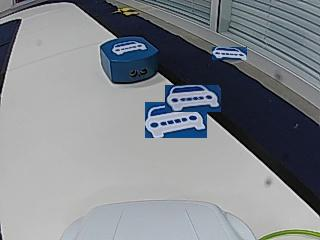safety: (111, 40, 146, 55)
